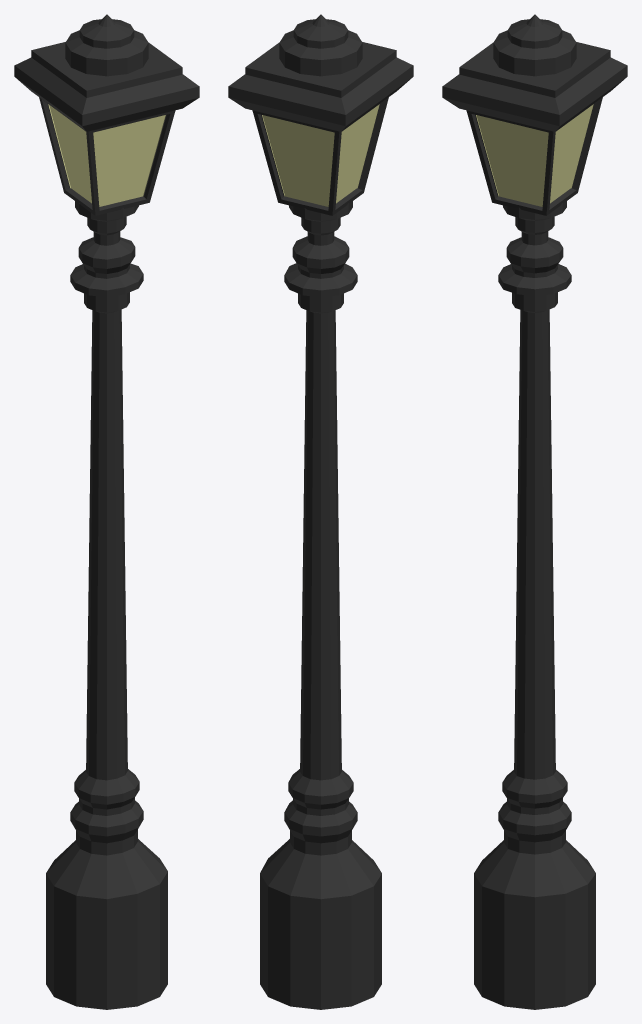
Rendered from street_lamp.fbx.
The picture shows the model from 3 angles, left to right: view 1: azimuth 30°, elevation 25°; view 2: azimuth 150°, elevation 25°; view 3: azimuth 330°, elevation 25°; orthographic projection.
Visible parts, largest first — view 1: lamp_base, lamp_glass1, lamp_top, lamp_top_round; view 2: lamp_base, lamp_glass1, lamp_top, lamp_top_round; view 3: lamp_base, lamp_glass1, lamp_top, lamp_top_round.
Part boxes in pixels (x1,y1,x2,y2): lamp_base: (46, 201, 167, 1009); lamp_glass1: (39, 97, 175, 215); lamp_top: (14, 42, 199, 131); lamp_top_round: (65, 14, 148, 76); lamp_base: (260, 201, 381, 1009); lamp_glass1: (252, 97, 388, 215); lamp_top: (228, 42, 413, 131); lamp_top_round: (279, 14, 362, 76); lamp_base: (474, 201, 595, 1009); lamp_glass1: (466, 97, 602, 215); lamp_top: (442, 42, 627, 131); lamp_top_round: (493, 14, 576, 76).
Size of the model in its own units: 32.11 by 254 by 32.11.
